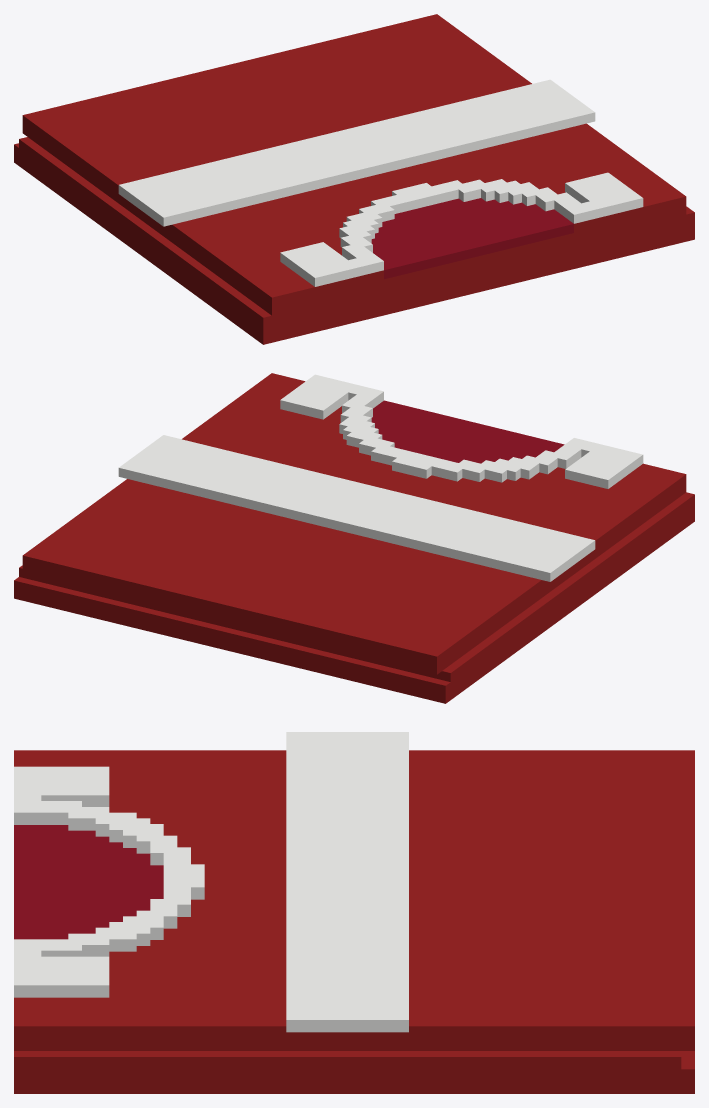
The model's file is cheerleader_top_short.glb.
3 renders of one model, top to bottom at view 1: azimuth 30°, elevation 25°; view 2: azimuth 150°, elevation 25°; view 3: azimuth 270°, elevation 25°, orthographic. The views are drawn at different scales.
Visible parts, largest first — view 1: cheerleader_top_short:compound; view 2: cheerleader_top_short:compound; view 3: cheerleader_top_short:compound.
Boxes of the visible parts, box(x1,y1,x2,y2) form: cheerleader_top_short:compound: box(14, 14, 694, 344); cheerleader_top_short:compound: box(14, 373, 694, 703); cheerleader_top_short:compound: box(14, 732, 694, 1093).
Bounding box in the file's own units: 0.2 × 0.024 × 0.2.
